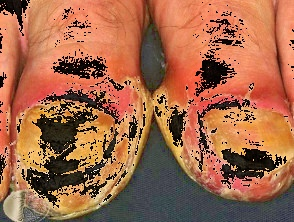Nail_psoriasis: (8, 74, 155, 222), (145, 75, 294, 206)
